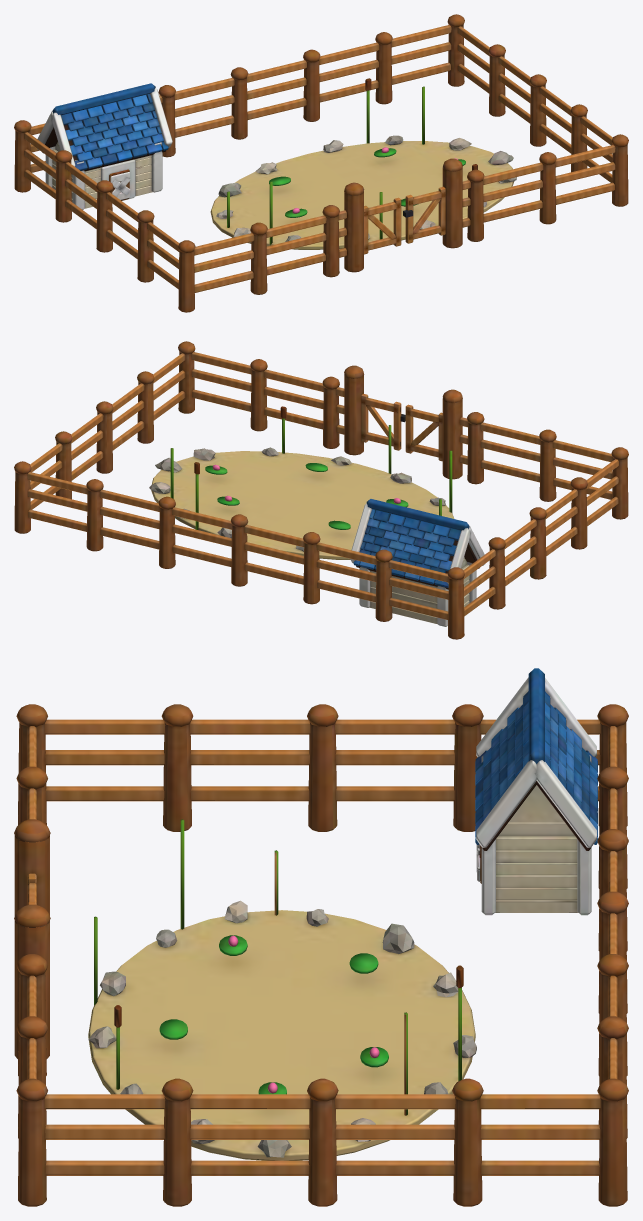
Rendered from campbell_pond.glb.
3 renders of one model, top to bottom at view 1: azimuth 30°, elevation 25°; view 2: azimuth 150°, elevation 25°; view 3: azimuth 270°, elevation 25°, orthographic. The views are drawn at different scales.
Parts seen in each view (by area): view 1: campbell_pond, gate1, gate0; view 2: campbell_pond, gate1, gate0; view 3: campbell_pond.
Part boxes in pixels (bbox=[...]): campbell_pond: bbox=[14, 14, 628, 312]; gate1: bbox=[403, 186, 445, 243]; gate0: bbox=[364, 197, 401, 254]; campbell_pond: bbox=[14, 341, 628, 639]; gate1: bbox=[361, 393, 405, 450]; gate0: bbox=[405, 404, 442, 461]; campbell_pond: bbox=[14, 668, 628, 1206].
Size of the model in its own units: 3 by 0.615 by 2.01.
1 material, 1 textured.
